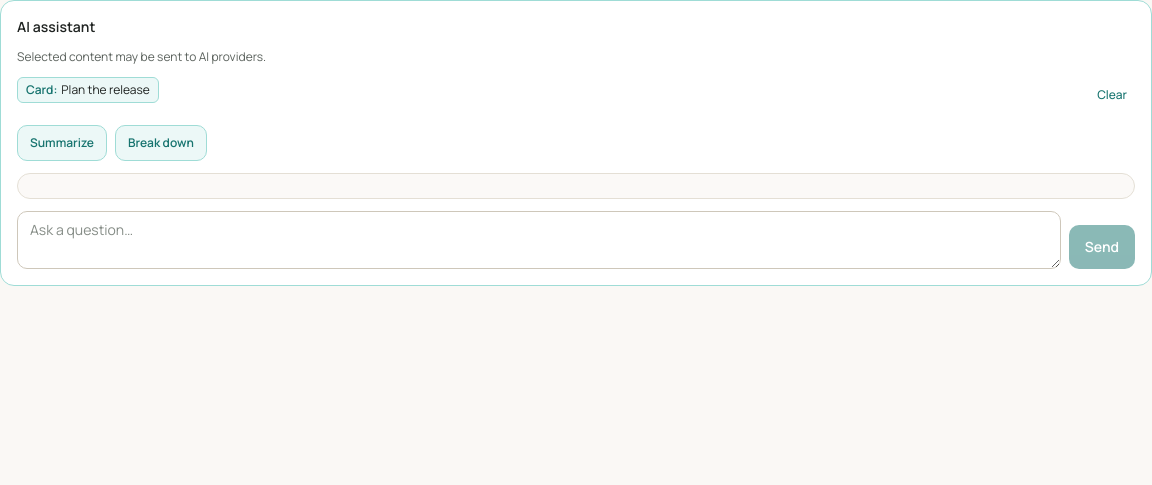
AiPanel › TC-AI-07: shows the safe AI_LIMIT_REACHED response
The image size is (1152, 485).
Type "What is the plan?" into the text box labelled "Ask a question" at (539, 240), box [17,211,1061,269]
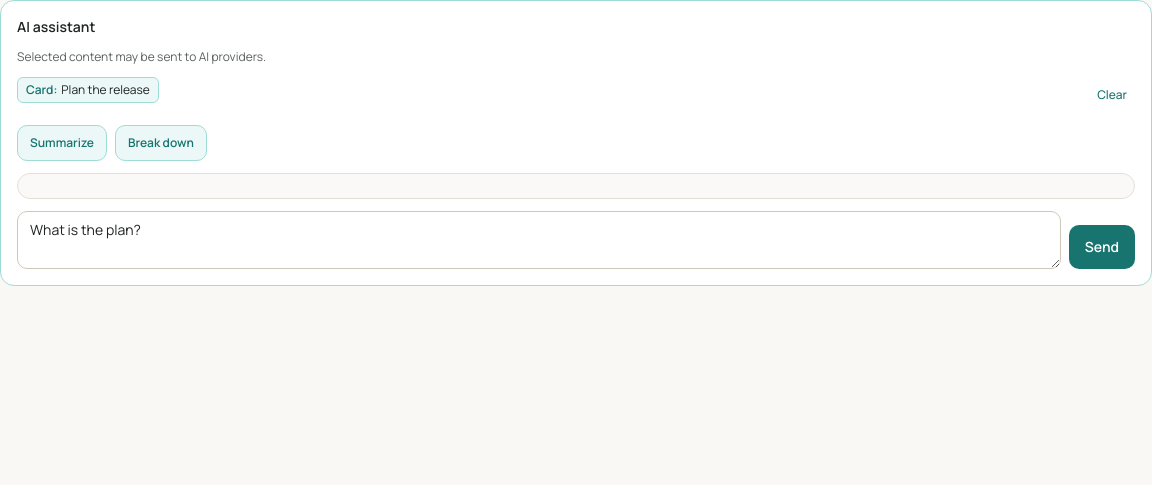
Click the button with aria-label "Ask AI" at (1102, 247), box [1069,225,1135,269]
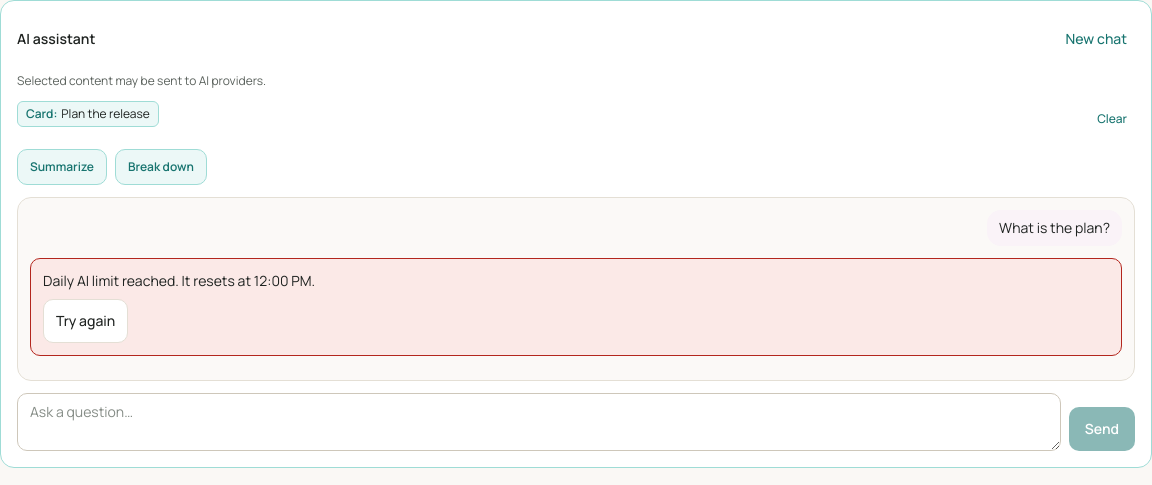
Now the text "Daily AI limit reached. It resets at 12:00 PM." is shown, box [43,271,315,290]
